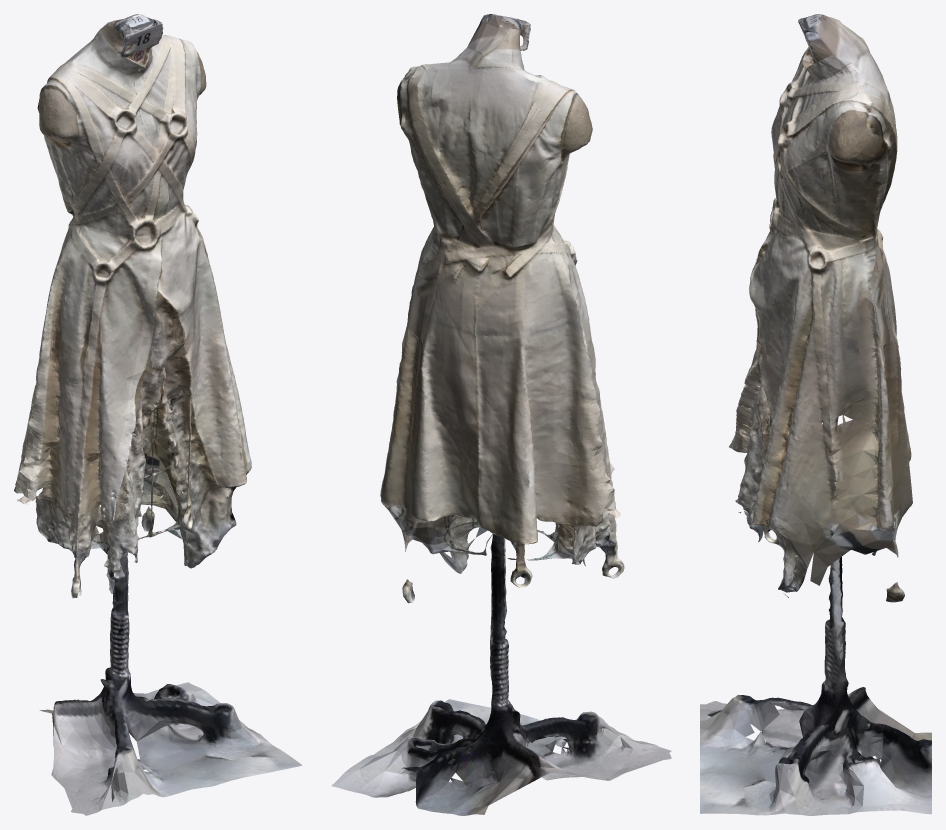
The model's file is p-dress__20261103_optimized.glb.
3 views of the same model, side by side, from view 1: azimuth 30°, elevation 25°; view 2: azimuth 150°, elevation 25°; view 3: azimuth 270°, elevation 25° (orthographic). The views are drawn at different scales.
Parts seen in each view (by area): view 1: mesh; view 2: mesh; view 3: mesh.
Boxes of the visible parts, box(x1,y1,x2,y2) form: mesh: box(14, 14, 302, 815); mesh: box(331, 14, 671, 815); mesh: box(700, 14, 931, 815).
Size of the model in its own units: 0.5261 by 1.64 by 0.4621.
1 material, 1 textured.
